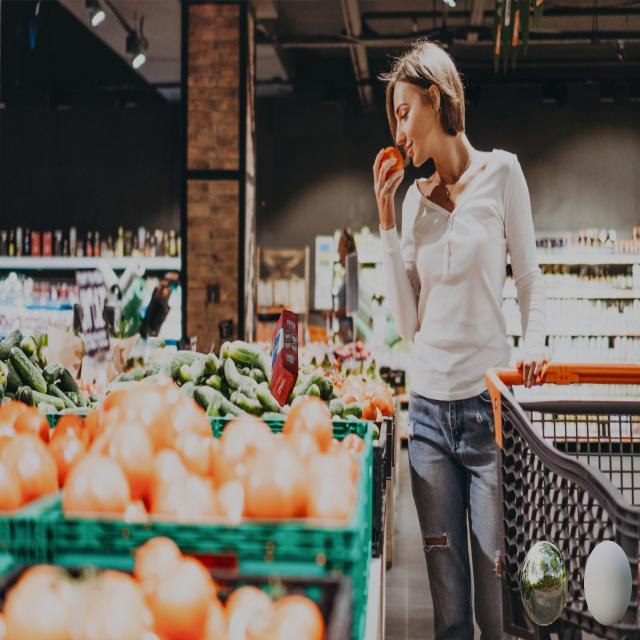mate bag: (272, 307, 300, 404)
